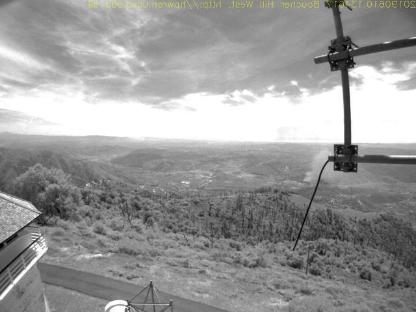smoke: (303, 148, 332, 186)
